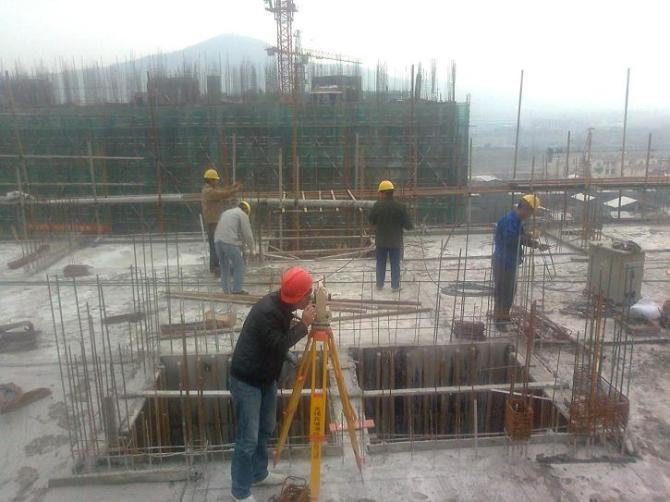helmet: (281, 268, 314, 307), (235, 200, 258, 217), (205, 168, 221, 185), (522, 194, 538, 211), (380, 180, 397, 195)
